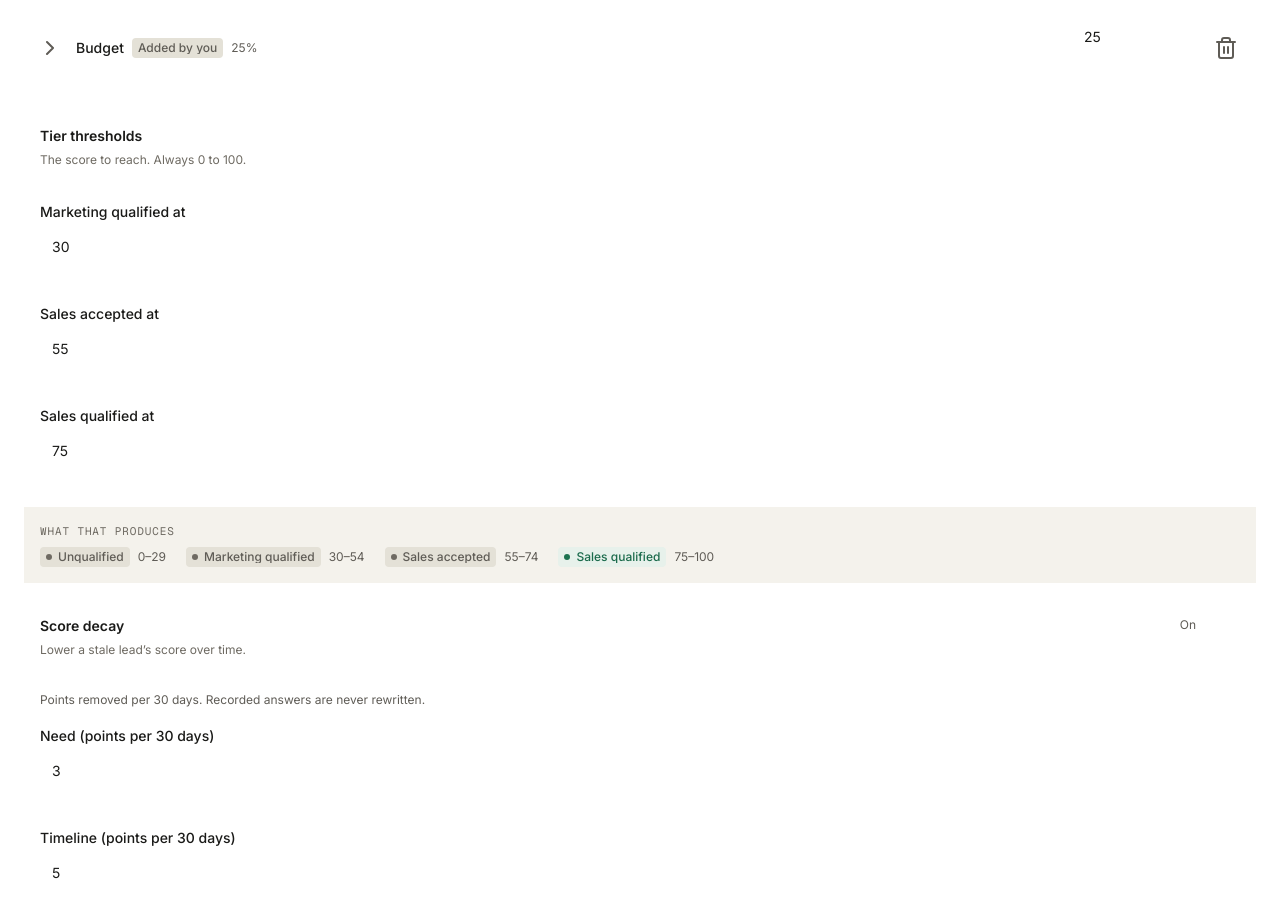
the dirty / save contract › keeps the bar up and explains a failed save
(page scrolled)
Replace the text in the number field labelled "Sales qualified at" with "85". click: point(640, 450)
box: [40, 433, 1240, 467]
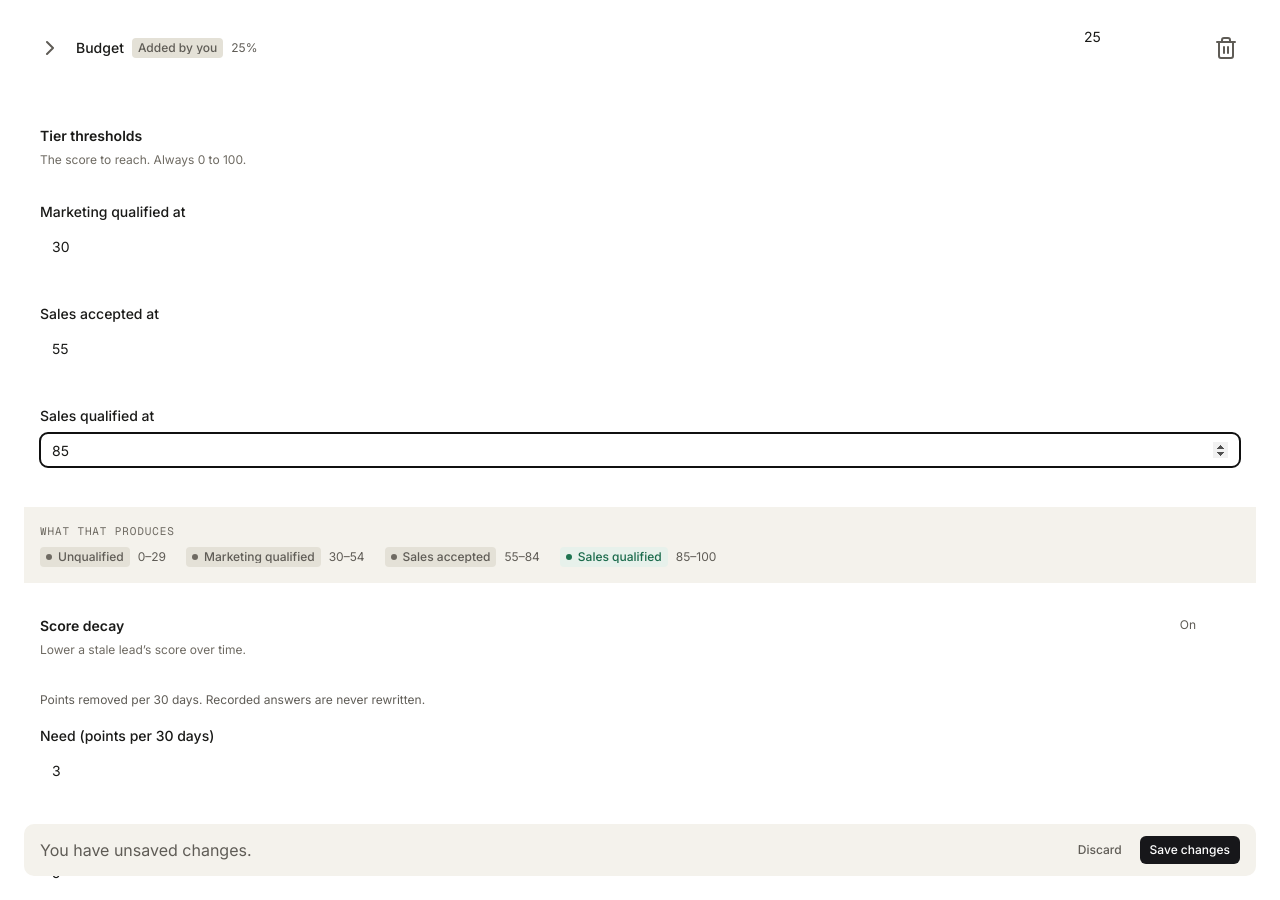
Click the button "Save changes". click: point(1190, 850)
box: [1140, 836, 1240, 864]
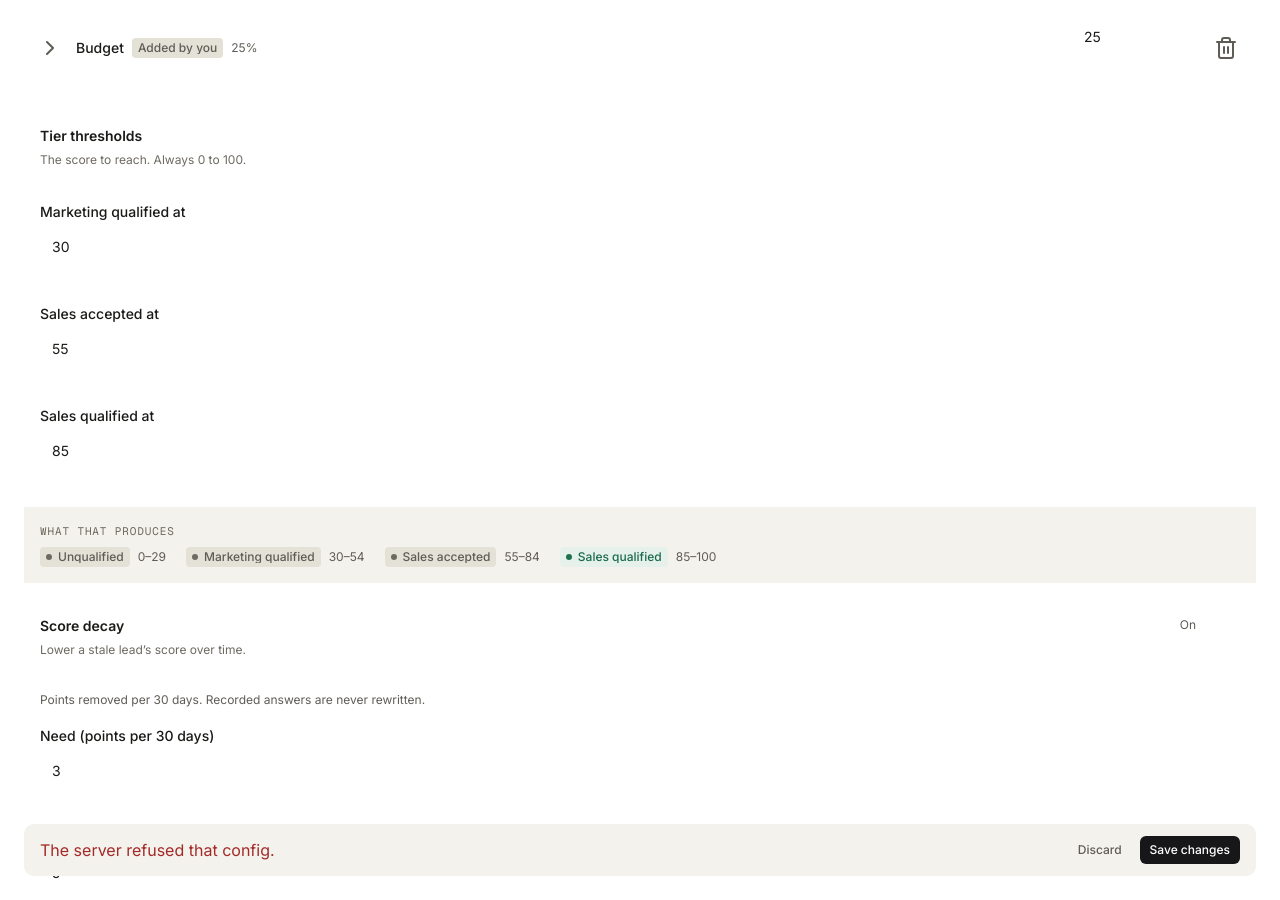
Now the button "Save changes" is enabled, box [1140, 836, 1240, 864]
Now the text "The server refused that config." is shown, box [40, 840, 275, 860]
